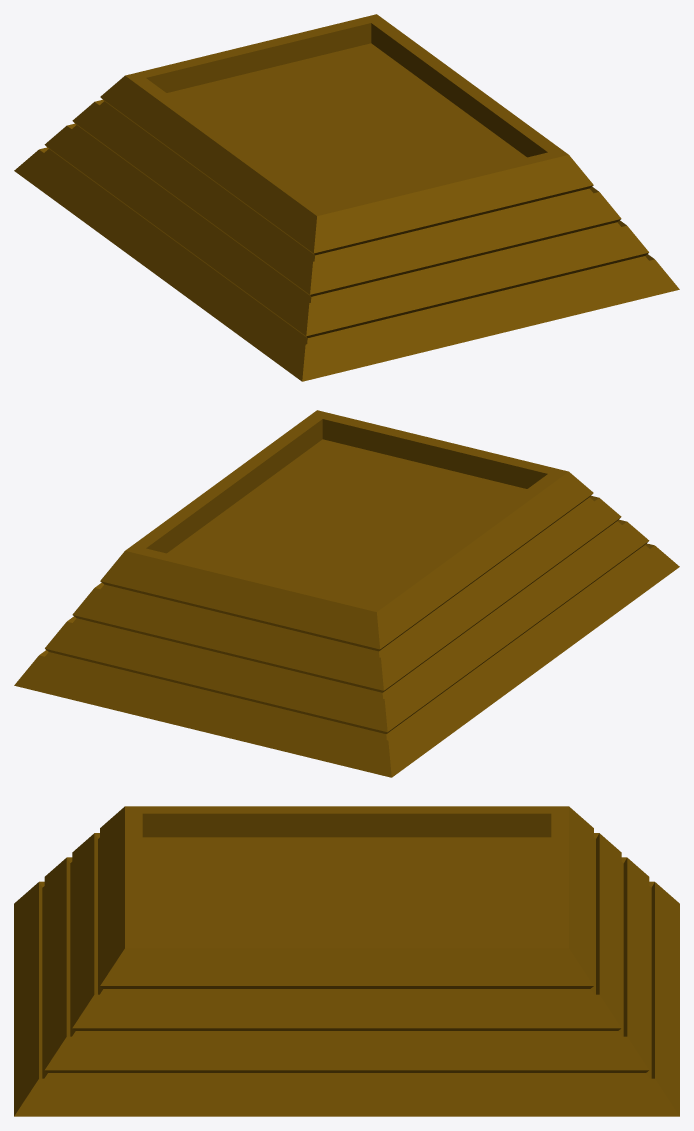
File: kitchen_roof.fbx
3 views of the same model, one above another, from view 1: azimuth 30°, elevation 25°; view 2: azimuth 150°, elevation 25°; view 3: azimuth 270°, elevation 25° (orthographic). The views are drawn at different scales.
Parts seen in each view (by area): view 1: roof; view 2: roof; view 3: roof.
Part boxes in pixels (x1,y1,x2,y2): roof: (14,14,679,381); roof: (14,410,679,777); roof: (14,806,679,1116).
Bounding box in the file's own units: 79.87 × 23.25 × 106.
